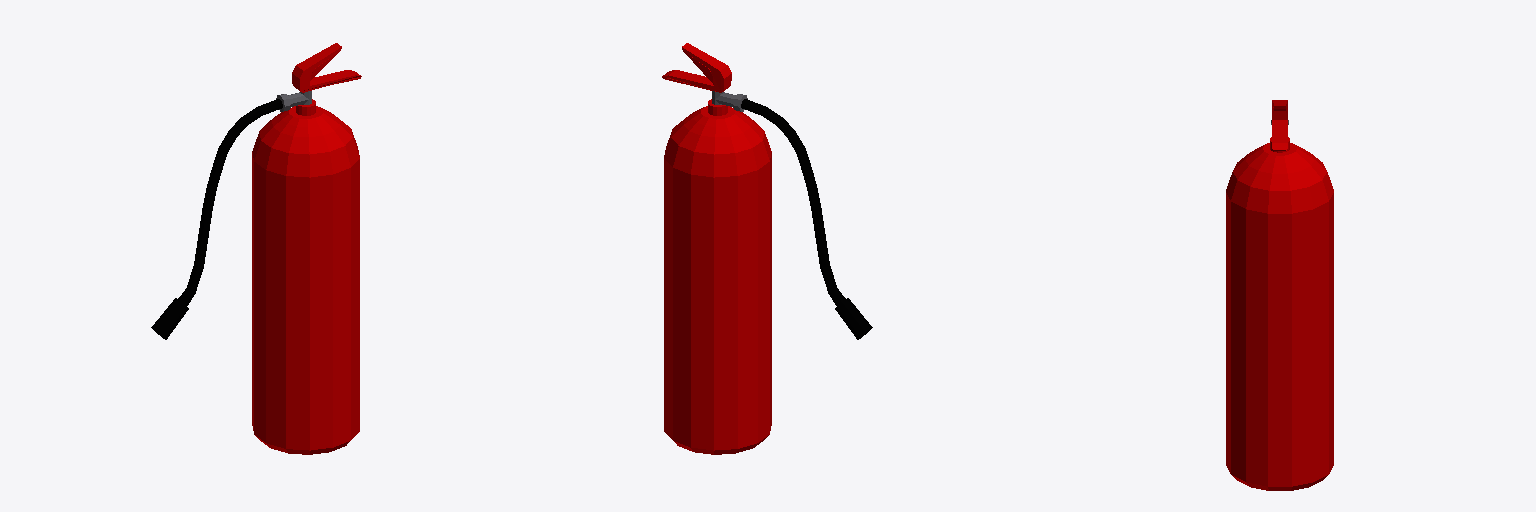
File: fire_extinguisher.obj
The picture shows the model from 3 angles: view 1: azimuth 30°, elevation 25°; view 2: azimuth 150°, elevation 25°; view 3: azimuth 270°, elevation 25°; orthographic projection.
Visible parts, largest first — view 1: fire_extinguisher; view 2: fire_extinguisher; view 3: fire_extinguisher.
Boxes of the visible parts, <box> form: fire_extinguisher: <box>151,43,361,454</box>; fire_extinguisher: <box>662,43,872,454</box>; fire_extinguisher: <box>1226,100,1333,490</box>.
Bounding box in the file's own units: 0.6117 × 1.08 × 0.2802.